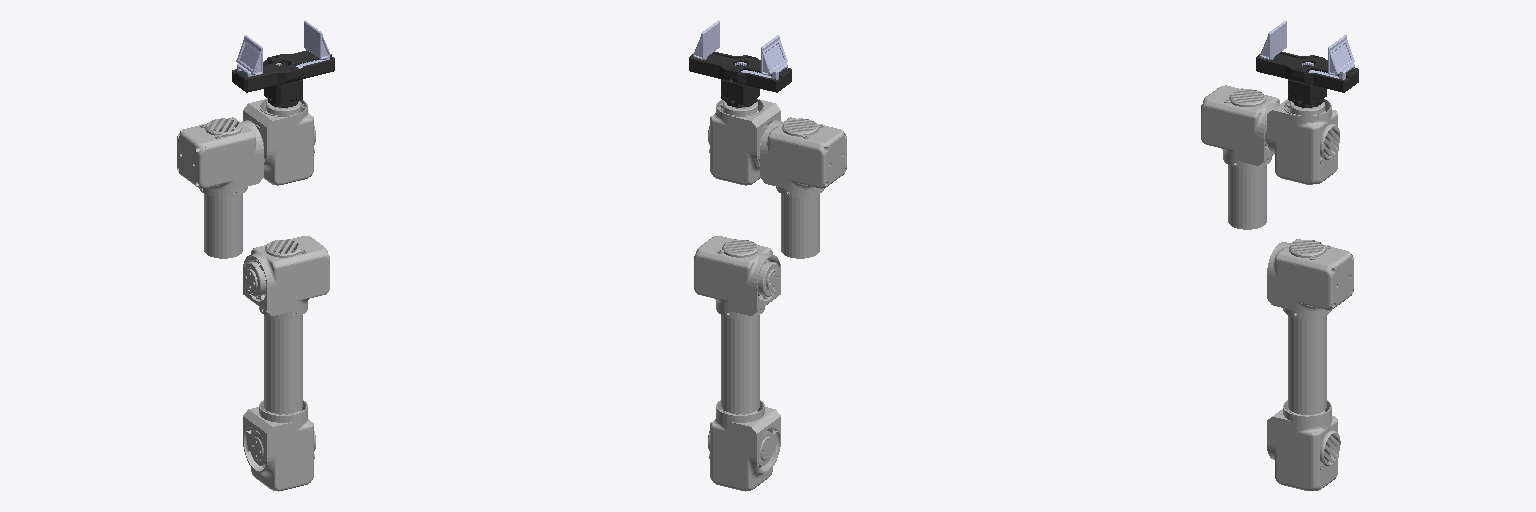
URDF robot description (urdf_viz):
<?xml version="1.0" encoding="utf-8"?>
<!-- This URDF was automatically created by SolidWorks to URDF Exporter! Originally created by Stephen Brawner (brawner@gmail.com) 
     Commit Version: 1.6.0-4-g7f85cfe  Build Version: 1.6.7995.38578
     For more information, please see http://wiki.ros.org/sw_urdf_exporter -->
<robot name="urdf_viz">
  <link name="base_link">
    <inertial>
      <origin xyz="-2.08175703585237E-05 -0.0215944619942018 -0.0148034940412238" rpy="0 0 0" />
      <mass value="0.226867575584474" />
      <inertia ixx="0.000310138970163127" ixy="3.57652047089435E-08" ixz="2.76570159636922E-09" iyy="0.000172445953154283" iyz="-1.18759040248718E-05" izz="0.000403590658467127" />
    </inertial>
    <visual>
      <origin xyz="0 0 0" rpy="0 0 0" />
      <geometry>
        <mesh filename="../meshes/base_link.STL" />
      </geometry>
      <material name="">
        <color rgba="0.752941176470588 0.752941176470588 0.752941176470588 1" />
      </material>
    </visual>
    <collision>
      <origin xyz="0 0 0" rpy="0 0 0" />
      <geometry>
        <mesh filename="../meshes/base_link.STL" />
      </geometry>
    </collision>
  </link>
  <link name="link_1">
    <inertial>
      <origin xyz="0.00362239334771706 -3.81795644027599E-05 0.0874826201255688" rpy="0 0 0" />
      <mass value="0.141639977131661" />
      <inertia ixx="8.98141382308835E-05" ixy="1.13468736177936E-08" ixz="3.51673525250542E-06" iyy="9.15722320805618E-05" iyz="3.6542592292488E-08" izz="0.000140053948831358" />
    </inertial>
    <visual>
      <origin xyz="0 0 0" rpy="0 0 0" />
      <geometry>
        <mesh filename="../meshes/link_1.STL" />
      </geometry>
      <material name="">
        <color rgba="0.752941176470588 0.752941176470588 0.752941176470588 1" />
      </material>
    </visual>
    <collision>
      <origin xyz="0 0 0" rpy="0 0 0" />
      <geometry>
        <mesh filename="../meshes/link_1.STL" />
      </geometry>
    </collision>
  </link>
  <joint name="joint_1" type="revolute">
    <origin xyz="0 0 0" rpy="0 0 0" />
    <parent link="base_link" />
    <child link="link_1" />
    <axis xyz="0 0 1" />
    <limit lower="0" upper="3.14" effort="200" velocity="5" />
  </joint>
  <link name="link_2">
    <inertial>
      <origin xyz="7.53940182482427E-06 0.00505678180282543 0.0842129380713663" rpy="0 0 0" />
      <mass value="0.143507549223786" />
      <inertia ixx="9.77478537604331E-05" ixy="-1.67427633619274E-08" ixz="-1.80834387568082E-08" iyy="9.07459548934156E-05" iyz="3.57849204977034E-06" izz="0.000147113534917112" />
    </inertial>
    <visual>
      <origin xyz="0 0 0" rpy="0 0 0" />
      <geometry>
        <mesh filename="../meshes/link_2.STL" />
      </geometry>
      <material name="">
        <color rgba="0.752941176470588 0.752941176470588 0.752941176470588 1" />
      </material>
    </visual>
    <collision>
      <origin xyz="0 0 0" rpy="0 0 0" />
      <geometry>
        <mesh filename="../meshes/link_2.STL" />
      </geometry>
    </collision>
  </link>
  <joint name="joint_2" type="revolute">
    <origin xyz="0 0 0.0929" rpy="1.5708 0 1.5708" />
    <parent link="link_1" />
    <child link="link_2" />
    <axis xyz="0 0 1" />
    <limit lower="-1.57" upper="1.57" effort="200" velocity="5" />
  </joint>
  <link name="link_3">
    <inertial>
      <origin xyz="-0.00330775018246698 -1.51931359661378E-05 -0.215292675404989" rpy="0 0 0" />
      <mass value="0.173954075434222" />
      <inertia ixx="0.000144630940442922" ixy="-1.32847181188018E-07" ixz="3.5352602147746E-06" iyy="0.000147338139082199" iyz="-6.41277682296454E-09" izz="0.000161646518516295" />
    </inertial>
    <visual>
      <origin xyz="0 0 0" rpy="0 0 0" />
      <geometry>
        <mesh filename="../meshes/link_3.STL" />
      </geometry>
      <material name="">
        <color rgba="0.752941176470588 0.752941176470588 0.752941176470588 1" />
      </material>
    </visual>
    <collision>
      <origin xyz="0 0 0" rpy="0 0 0" />
      <geometry>
        <mesh filename="../meshes/link_3.STL" />
      </geometry>
    </collision>
  </link>
  <joint name="joint_3" type="revolute">
    <origin xyz="0 0 0.0895" rpy="1.5708 -1.5708 0" />
    <parent link="link_2" />
    <child link="link_3" />
    <axis xyz="0 0 -1" />
    <limit lower="-3.14" upper="3.14" effort="200" velocity="5" />
  </joint>
  <link name="link_4">
    <inertial>
      <origin xyz="-3.6973238745408E-05 -0.00339659287195765 0.0858843482112302" rpy="0 0 0" />
      <mass value="0.148325167434625" />
      <inertia ixx="9.83824919124809E-05" ixy="-8.95348942307426E-09" ixz="3.53186062441271E-08" iyy="9.24366010340051E-05" iyz="-3.58230406317329E-06" izz="0.000148216123686448" />
    </inertial>
    <visual>
      <origin xyz="0 0 0" rpy="0 0 0" />
      <geometry>
        <mesh filename="../meshes/link_4.STL" />
      </geometry>
      <material name="">
        <color rgba="0.752941176470588 0.752941176470588 0.752941176470588 1" />
      </material>
    </visual>
    <collision>
      <origin xyz="0 0 0" rpy="0 0 0" />
      <geometry>
        <mesh filename="../meshes/link_4.STL" />
      </geometry>
    </collision>
  </link>
  <joint name="joint_4" type="revolute">
    <origin xyz="0 0 -0.24698520586243" rpy="1.5707963267949 0 -1.5707963267949" />
    <parent link="link_3" />
    <child link="link_4" />
    <axis xyz="0 0 1" />
    <limit lower="-2.09" upper="2.09" effort="200" velocity="5" />
  </joint>
  <link name="link_5">
    <inertial>
      <origin xyz="0.00206792792814741 -2.76614863313207E-05 0.175346578298024" rpy="0 0 0" />
      <mass value="0.170949127914978" />
      <inertia ixx="0.000112877897565311" ixy="1.33876282485779E-07" ixz="3.50583392437512E-06" iyy="0.00011462399449212" iyz="-1.95086999820378E-08" izz="0.000157908884644635" />
    </inertial>
    <visual>
      <origin xyz="0 0 0" rpy="0 0 0" />
      <geometry>
        <mesh filename="../meshes/link_5.STL" />
      </geometry>
      <material name="">
        <color rgba="0.752941176470588 0.752941176470588 0.752941176470588 1" />
      </material>
    </visual>
    <collision>
      <origin xyz="0 0 0" rpy="0 0 0" />
      <geometry>
        <mesh filename="../meshes/link_5.STL" />
      </geometry>
    </collision>
  </link>
  <joint name="joint_5" type="revolute">
    <origin xyz="0 0 0.090985" rpy="1.5708 1.5708 0" />
    <parent link="link_4" />
    <child link="link_5" />
    <axis xyz="0 0 1" />
    <limit lower="-3.14" upper="3.14" effort="200" velocity="5" />
  </joint>
  <link name="link_6">
    <inertial>
      <origin xyz="4.11085997713834E-05 0.00257530402715245 0.0857796541219091" rpy="0 0 0" />
      <mass value="0.145620756588228" />
      <inertia ixx="9.1789407911568E-05" ixy="-9.76230646696901E-09" ixz="-3.67352230545573E-08" iyy="9.06990729876771E-05" iyz="3.51811623142638E-06" izz="0.000140766609119444" />
    </inertial>
    <visual>
      <origin xyz="0 0 0" rpy="0 0 0" />
      <geometry>
        <mesh filename="../meshes/link_6.STL" />
      </geometry>
      <material name="">
        <color rgba="0.752941176470588 0.752941176470588 0.752941176470588 1" />
      </material>
    </visual>
    <collision>
      <origin xyz="0 0 0" rpy="0 0 0" />
      <geometry>
        <mesh filename="../meshes/link_6.STL" />
      </geometry>
    </collision>
  </link>
  <joint name="joint_6" type="revolute">
    <origin xyz="0 0 0.19698520586243" rpy="1.5707963267949 0 1.5707963267949" />
    <parent link="link_5" />
    <child link="link_6" />
    <axis xyz="0 0 1" />
    <limit lower="-2.09" upper="2.09" effort="200" velocity="5" />
  </joint>
  <link name="link_7">
    <inertial>
      <origin xyz="2.64411535773335E-05 9.7954550006496E-05 -0.0840589621547128" rpy="0 0 0" />
      <mass value="0.12501071907342" />
      <inertia ixx="2.26293922031708E-05" ixy="2.32911033544145E-06" ixz="8.59002610826771E-10" iyy="0.000128156352411139" iyz="5.558511048017E-09" izz="0.000144851958518916" />
    </inertial>
    <visual>
      <origin xyz="0 0 0" rpy="0 0 0" />
      <geometry>
        <mesh filename="../meshes/link_7.STL" />
      </geometry>
      <material name="">
        <color rgba="0.250980392156863 0.250980392156863 0.250980392156863 1" />
      </material>
    </visual>
    <collision>
      <origin xyz="0 0 0" rpy="0 0 0" />
      <geometry>
        <mesh filename="../meshes/link_7.STL" />
      </geometry>
    </collision>
  </link>
  <joint name="joint_7" type="revolute">
    <origin xyz="0 0 0.0909852058624294" rpy="1.5707963267949 -1.5707963267949 0" />
    <parent link="link_6" />
    <child link="link_7" />
    <axis xyz="0 0 -1" />
    <limit lower="-2.09" upper="2.09" effort="200" velocity="5" />
  </joint>
  <link name="link_8">
    <inertial>
      <origin xyz="-0.0454469154965145 0.0022533980210059 0.0156033496088577" rpy="0 0 0" />
      <mass value="0.0199960953484895" />
      <inertia ixx="6.85202610096929E-06" ixy="-6.28134392390059E-07" ixz="1.03874099356176E-06" iyy="6.67336841270334E-06" iyz="8.79996273613871E-07" izz="5.95029100616288E-06" />
    </inertial>
    <visual>
      <origin xyz="0 0 0" rpy="0 0 0" />
      <geometry>
        <mesh filename="../meshes/link_8.STL" />
      </geometry>
      <material name="">
        <color rgba="0.792156862745098 0.819607843137255 0.933333333333333 1" />
      </material>
    </visual>
    <collision>
      <origin xyz="0 0 0" rpy="0 0 0" />
      <geometry>
        <mesh filename="../meshes/link_8.STL" />
      </geometry>
    </collision>
  </link>
  <joint name="joint_8" type="prismatic">
    <origin xyz="0 0 -0.102485205862429" rpy="3.14159265358979 0 0" />
    <parent link="link_7" />
    <child link="link_8" />
    <axis xyz="-1 0 0" />
    <limit lower="-0.0435" upper="0" effort="200" velocity="1" />
  </joint>
  <link name="link_9">
    <inertial>
      <origin xyz="0.0454469154965374 -0.00225339802100588 0.0156033496088577" rpy="0 0 0" />
      <mass value="0.0199960953484895" />
      <inertia ixx="6.85202610096931E-06" ixy="-6.28134392390059E-07" ixz="-1.03874099356176E-06" iyy="6.67336841270336E-06" iyz="-8.79996273613867E-07" izz="5.9502910061629E-06" />
    </inertial>
    <visual>
      <origin xyz="0 0 0" rpy="0 0 0" />
      <geometry>
        <mesh filename="../meshes/link_9.STL" />
      </geometry>
      <material name="">
        <color rgba="0.792156862745098 0.819607843137255 0.933333333333333 1" />
      </material>
    </visual>
    <collision>
      <origin xyz="0 0 0" rpy="0 0 0" />
      <geometry>
        <mesh filename="../meshes/link_9.STL" />
      </geometry>
    </collision>
  </link>
  <joint name="joint_9" type="prismatic">
    <origin xyz="0 0 -0.102485205862429" rpy="3.14159265358979 0 0" />
    <parent link="link_7" />
    <child link="link_9" />
    <axis xyz="-1 0 0" />
    <limit lower="0" upper="0.0435" effort="200" velocity="1" />
  </joint>
</robot>

--- Facts derived from the render (not from the file) ---
3 views of the same robot in one strip: view 1: azimuth 30°, elevation 25°; view 2: azimuth 150°, elevation 25°; view 3: azimuth 330°, elevation 25° (orthographic).
Robot: urdf_viz — 10 links, 9 joints (7 revolute, 2 prismatic); root link base_link; default pose: every joint at zero.
Links seen in each view (by area): view 1: link_3, link_5, link_2, link_6, link_7, link_8, link_9; view 2: link_3, link_5, link_2, link_6, link_7, link_8, link_9; view 3: link_3, link_5, link_2, link_6, link_7, link_9, link_8.
Link boxes in pixels (bbox=[...]): link_3: bbox=[243, 236, 329, 413]; link_5: bbox=[177, 117, 263, 258]; link_2: bbox=[243, 400, 315, 491]; link_6: bbox=[243, 98, 315, 185]; link_7: bbox=[232, 51, 334, 107]; link_8: bbox=[236, 35, 281, 76]; link_9: bbox=[296, 20, 330, 68]; link_3: bbox=[694, 236, 780, 413]; link_5: bbox=[760, 117, 846, 258]; link_2: bbox=[708, 400, 780, 491]; link_6: bbox=[708, 99, 780, 185]; link_7: bbox=[689, 52, 791, 107]; link_8: bbox=[741, 35, 787, 79]; link_9: bbox=[693, 20, 746, 65]; link_3: bbox=[1267, 239, 1353, 414]; link_5: bbox=[1201, 85, 1279, 229]; link_2: bbox=[1267, 400, 1340, 490]; link_6: bbox=[1267, 99, 1339, 184]; link_7: bbox=[1256, 52, 1358, 107]; link_9: bbox=[1308, 35, 1354, 79]; link_8: bbox=[1260, 21, 1313, 65].
Bounding box of the posed robot: 0.2149 × 0.064 × 0.6474 m (x, y, z).
Meshes: 10 distinct files referenced, 7 mesh visuals loaded (7 binary STL); not drawn: 3 (reference not matched to a file when rendering).
